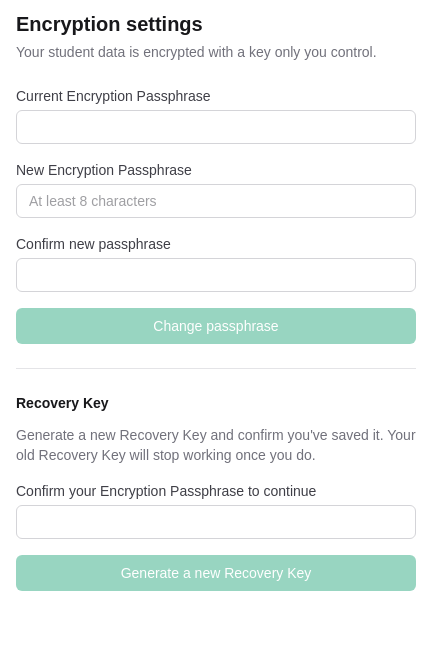
Scenario: SettingsClient › a returning account (already set up) › Recovery Key reconfirmation (M3-004/FR-AUTH-09) › shows an error and never rotates the key when the passphrase is wrong
The width and height of the screenshot is (433, 664).
Type "wrong-passphrase" into the password field labelled "Confirm your Encryption Passphrase to continue".
click(216, 522); type("wrong-passphrase")  # box [16,505,416,539]
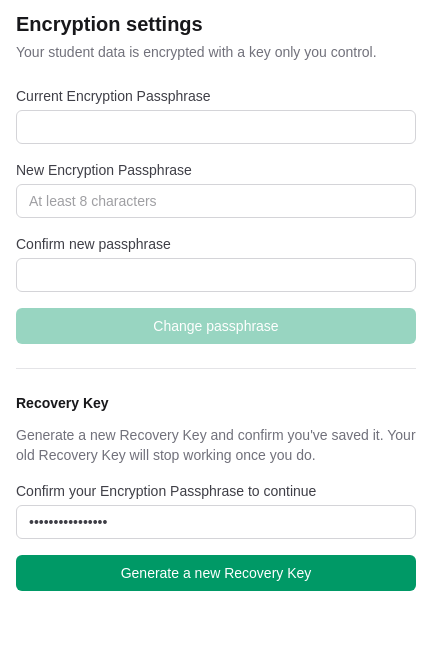
Click the button "Generate a new Recovery Key".
click(216, 573)  # box [16,555,416,591]
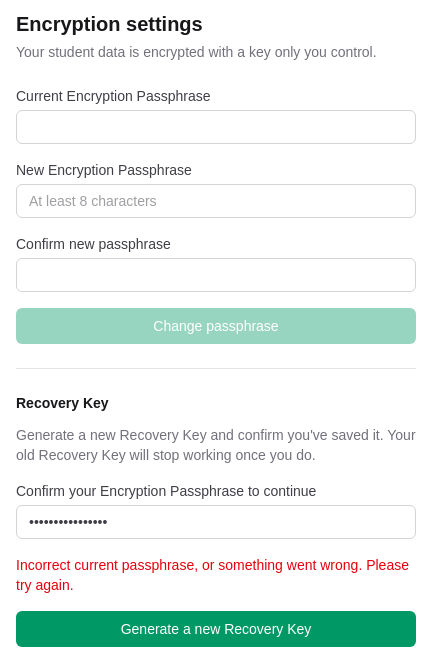
Check: the text "Incorrect current passphrase" is shown, box [16,557,409,593]
